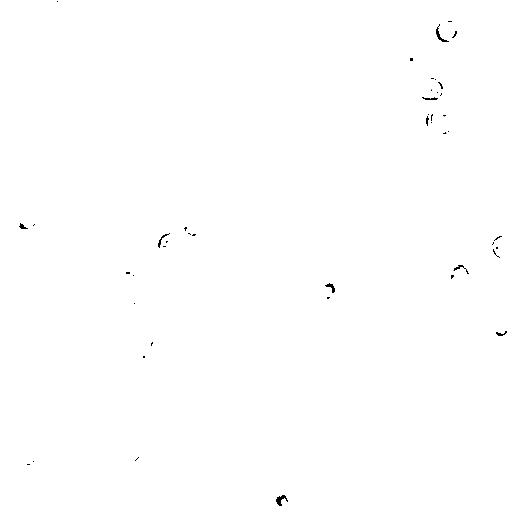micro-algae: (168, 70, 296, 194), (209, 67, 327, 193), (264, 55, 325, 114), (79, 254, 130, 305), (184, 463, 222, 504), (68, 132, 105, 170), (360, 341, 396, 375), (125, 362, 161, 396), (390, 279, 421, 316), (424, 105, 457, 138), (299, 465, 331, 499), (142, 247, 175, 278), (492, 275, 511, 325), (99, 151, 129, 181), (398, 43, 426, 73), (415, 75, 445, 102), (157, 232, 185, 260), (128, 345, 159, 370), (171, 84, 199, 110), (374, 255, 401, 278), (447, 263, 470, 290), (491, 233, 512, 261), (436, 19, 459, 44), (342, 293, 365, 317), (18, 442, 40, 467), (315, 280, 338, 302), (322, 250, 342, 272), (54, 15, 74, 36), (15, 214, 37, 233), (181, 220, 203, 239), (330, 356, 350, 376), (133, 455, 153, 475), (334, 237, 354, 256), (124, 289, 144, 307), (182, 494, 201, 512), (118, 226, 138, 243), (491, 319, 509, 337), (364, 439, 382, 457), (42, 0, 62, 16), (119, 270, 137, 287), (149, 335, 166, 353), (274, 492, 291, 509), (505, 478, 511, 492)
